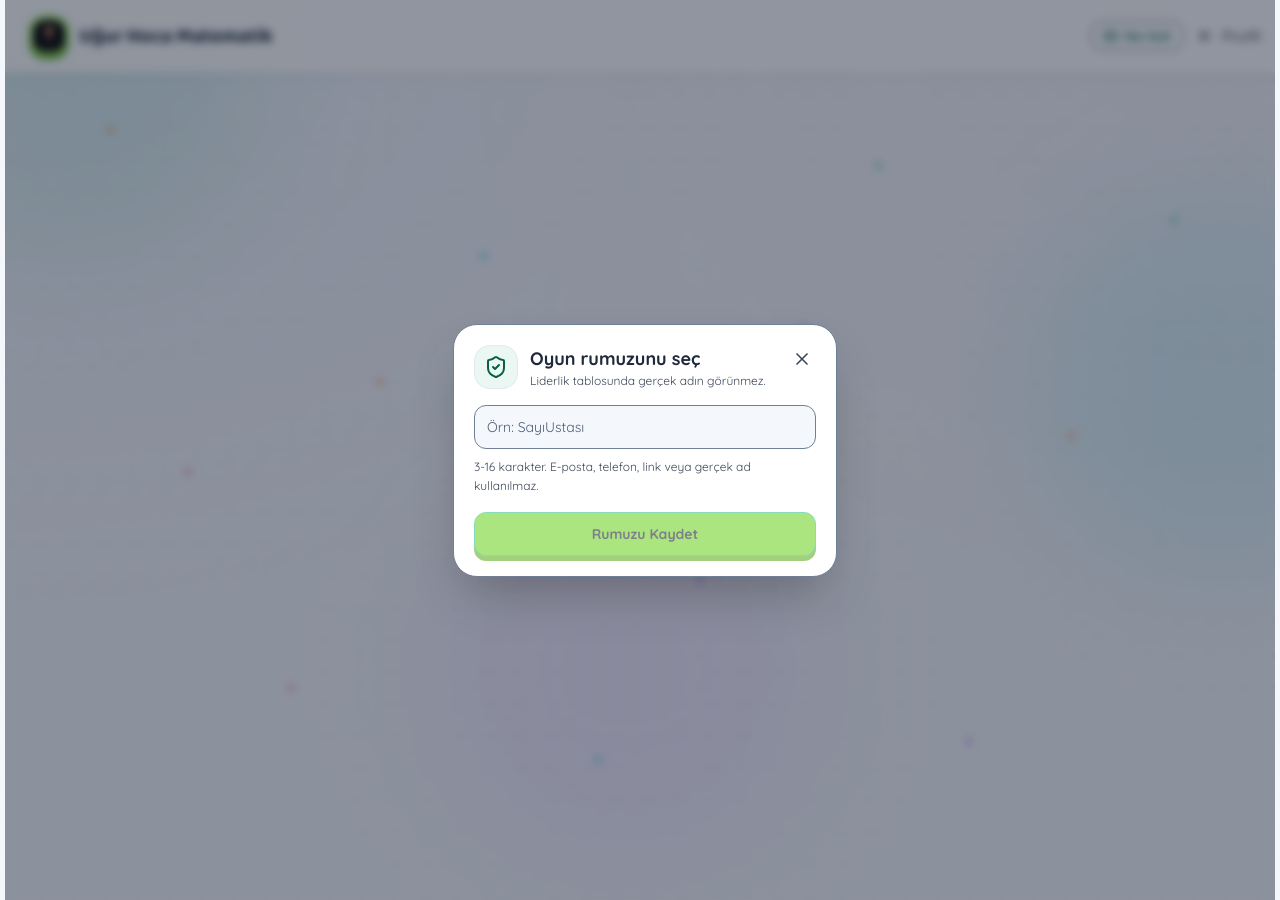
Test: explains that scores are waiting when the alias modal is dismissed
Click the button named "Rumuz penceresini kapat" at (802, 358), box [784, 340, 820, 376]
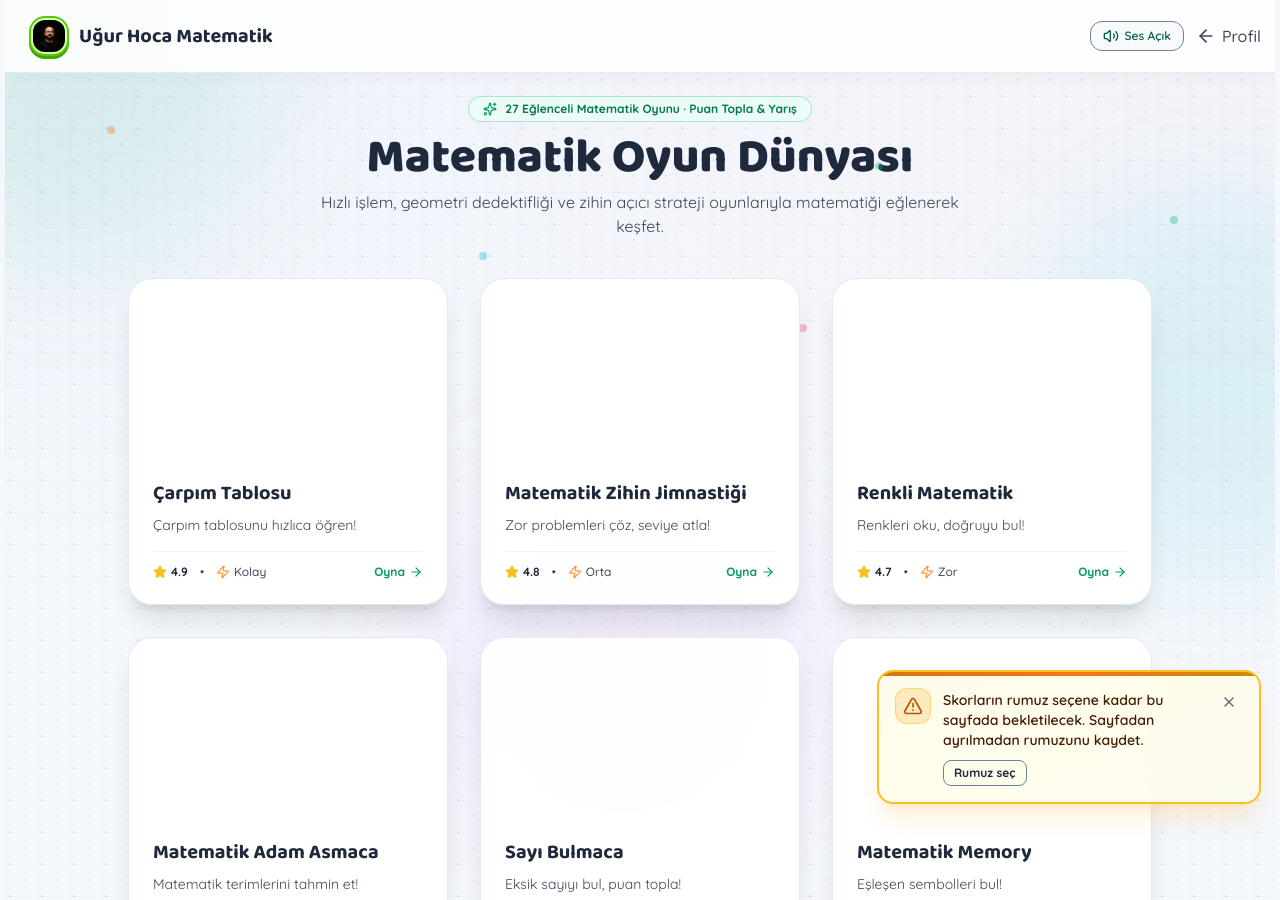
Check: the text "Skorların rumuz seçene kadar bu sayfada bekletilecek. Sayfadan ayrılmadan rumuzunu kaydet." is shown, box [943, 691, 1163, 749]
Click the button "Rumuz seç" at (985, 773), box [943, 760, 1027, 786]
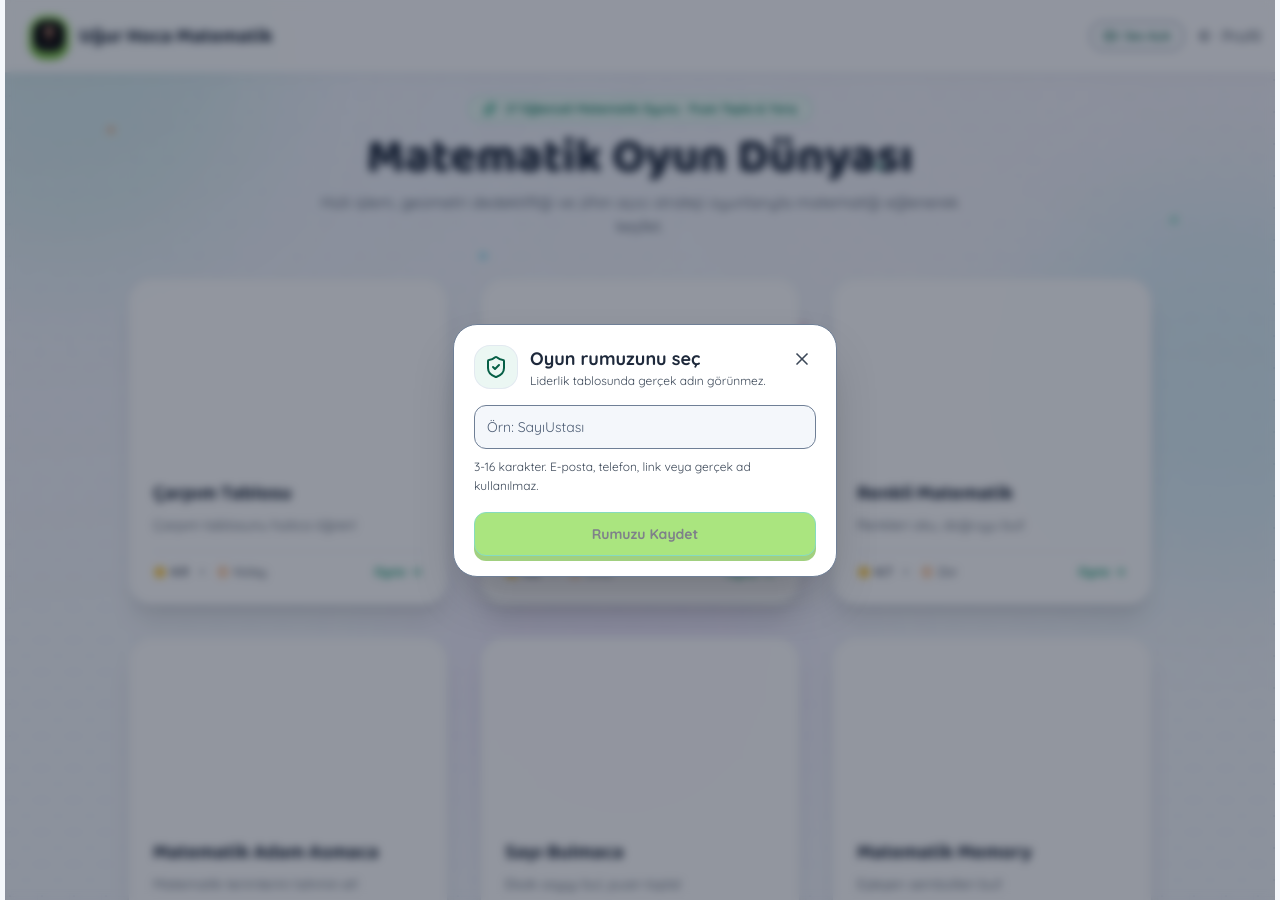
Check: the button named "Rumuz penceresini kapat" is shown, box [784, 340, 820, 376]
